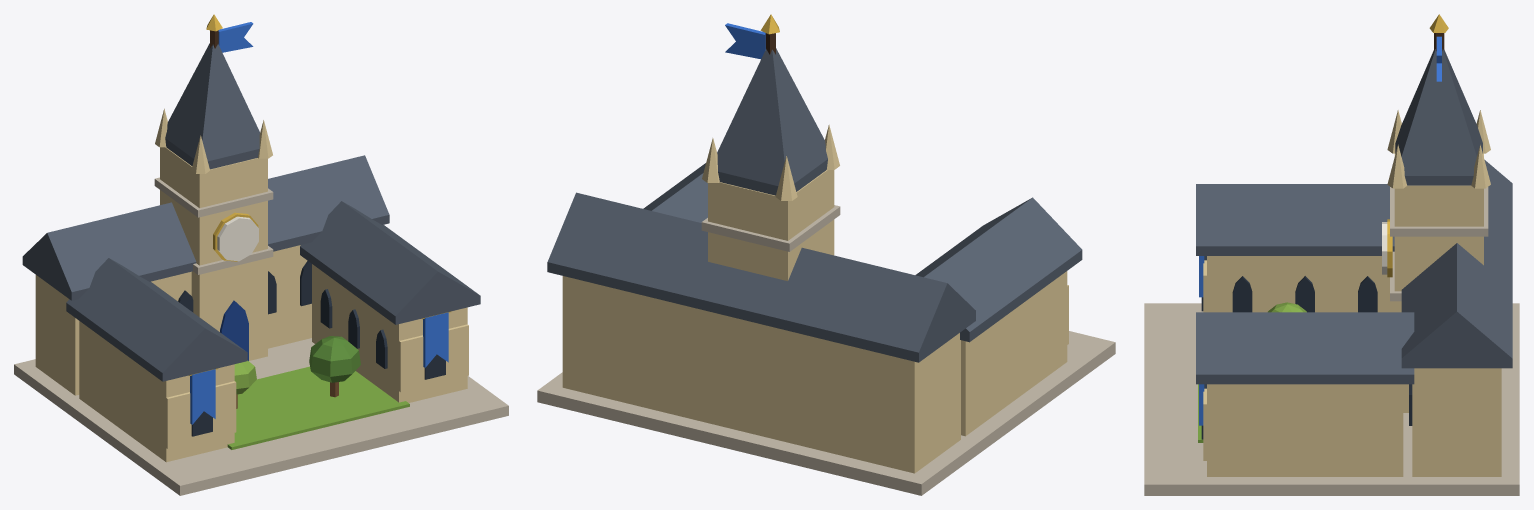
Rendered from bld_university.glb.
3 views of the same model, side by side, from view 1: azimuth 30°, elevation 25°; view 2: azimuth 150°, elevation 25°; view 3: azimuth 270°, elevation 25° (orthographic). The views are drawn at different scales.
Visible parts, largest first — view 1: bld_university; view 2: bld_university; view 3: bld_university.
Boxes of the visible parts, bbox=[...] form: bld_university: bbox=[14, 14, 508, 495]; bld_university: bbox=[537, 14, 1115, 495]; bld_university: bbox=[1144, 14, 1519, 495].
Bounding box in the file's own units: 0.48 × 0.4832 × 0.42.
